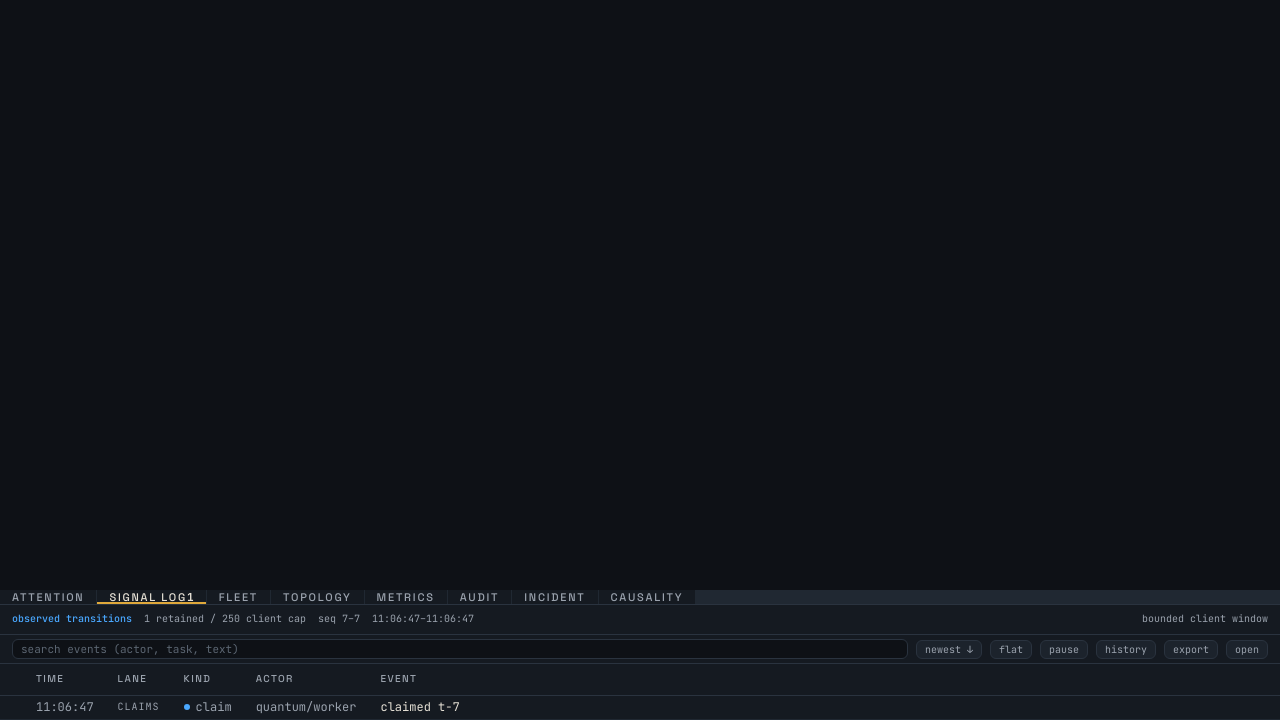
Test: InspectorTabs › hops from a log row straight into a traced causality subject
(page scrolled)
Click the button "claimed t-7" at (420, 707), box top-left (380, 698), bottom-right (460, 716)
(page scrolled)
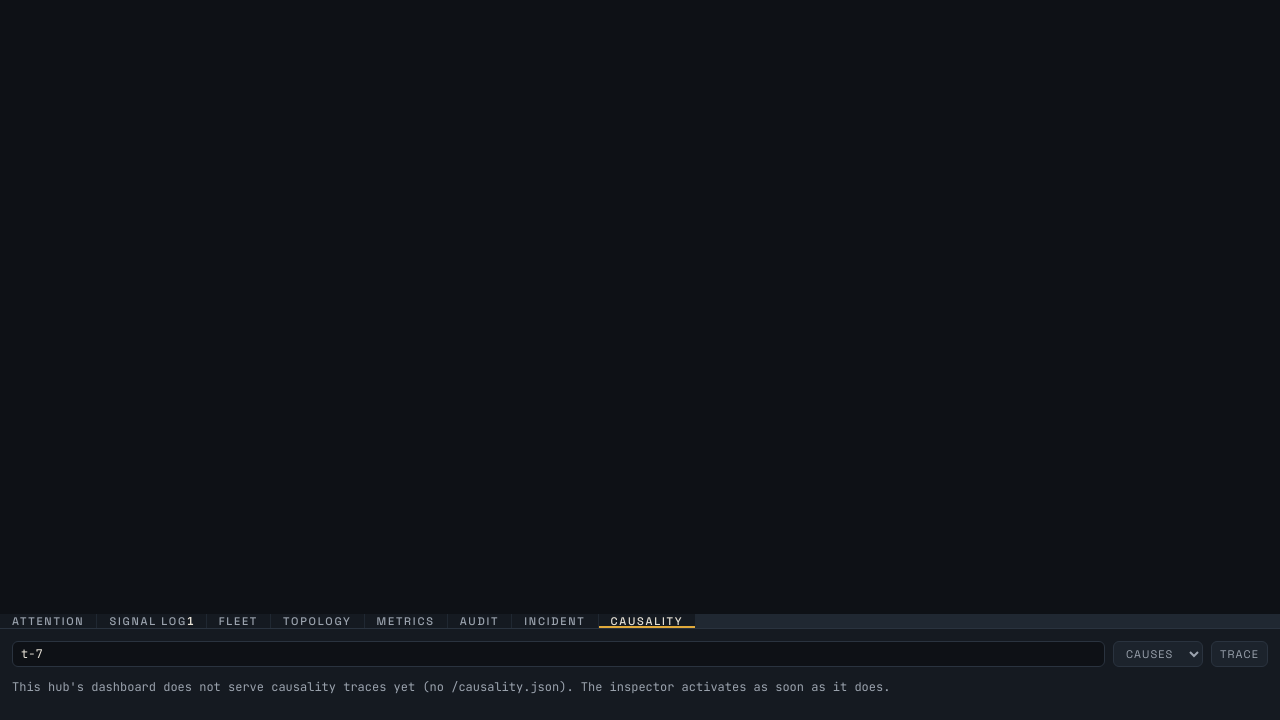
expect the field named "hub event seq or task id" holds "t-7": met, box top-left (12, 641), bottom-right (1105, 667)
